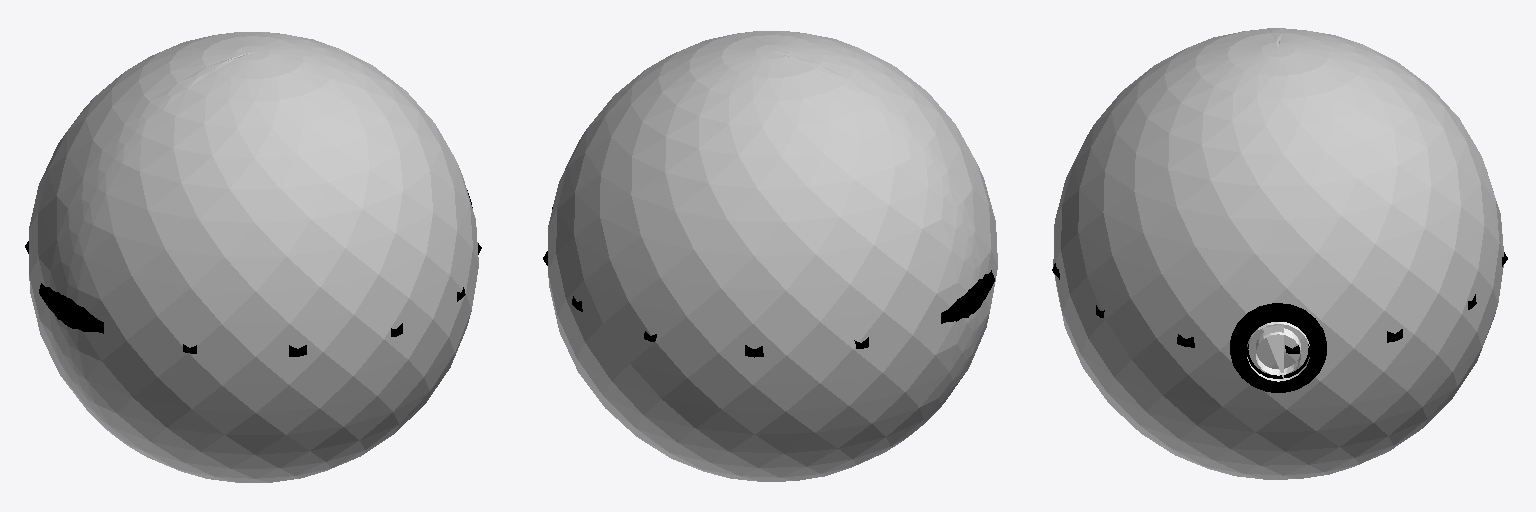
The model's file is pokeball_small2.obj.
The picture shows the model from 3 angles: view 1: azimuth 30°, elevation 25°; view 2: azimuth 150°, elevation 25°; view 3: azimuth 270°, elevation 25°; orthographic projection.
Parts seen in each view (by area): view 1: pokeball; view 2: pokeball; view 3: pokeball.
Part boxes in pixels (x1,y1,x2,y2): pokeball: (25, 32, 481, 482); pokeball: (543, 31, 997, 481); pokeball: (1052, 28, 1507, 479).
Size of the model in its own units: 9.07 by 8.77 by 8.85.